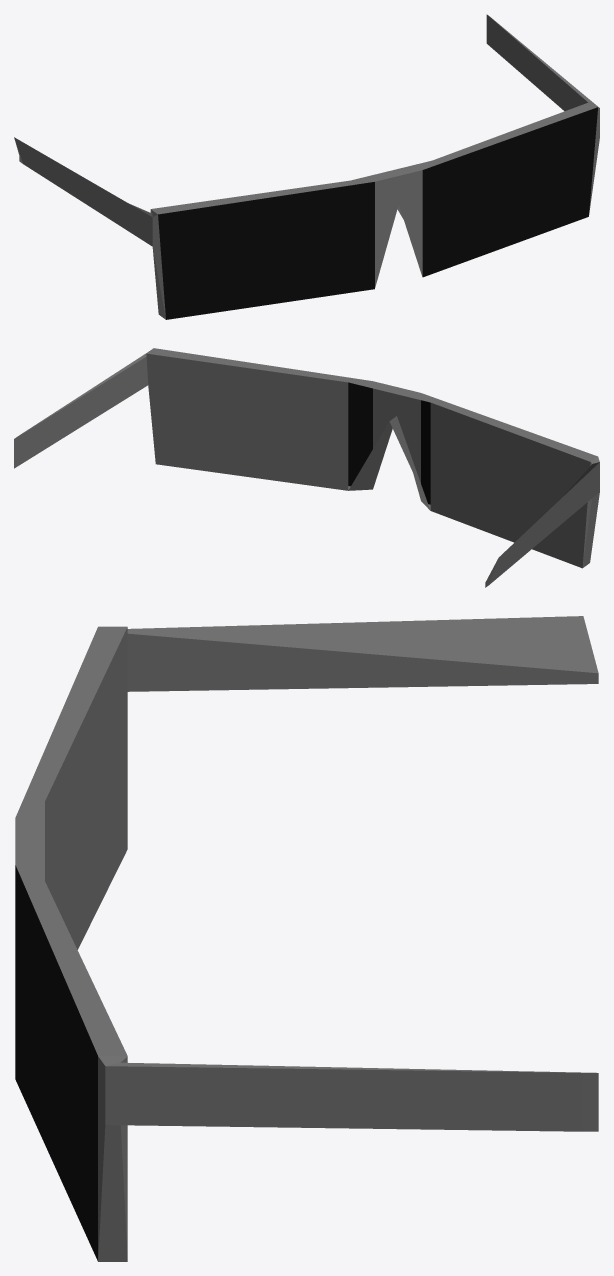
File: howerful_glasses.glb
The picture shows the model from 3 angles, top to bottom: view 1: azimuth 30°, elevation 25°; view 2: azimuth 150°, elevation 25°; view 3: azimuth 270°, elevation 25°; orthographic projection. The views are drawn at different scales.
Visible parts, largest first — view 1: Howerful_Glasses; view 2: Howerful_Glasses; view 3: Howerful_Glasses.
Boxes of the visible parts, bbox=[...] form: Howerful_Glasses: bbox=[14, 14, 599, 319]; Howerful_Glasses: bbox=[14, 348, 599, 587]; Howerful_Glasses: bbox=[15, 616, 598, 1261].
Bounding box in the file's own units: 0.6499 × 0.1401 × 0.3447.
Materials: 1 (1 with a texture image).
